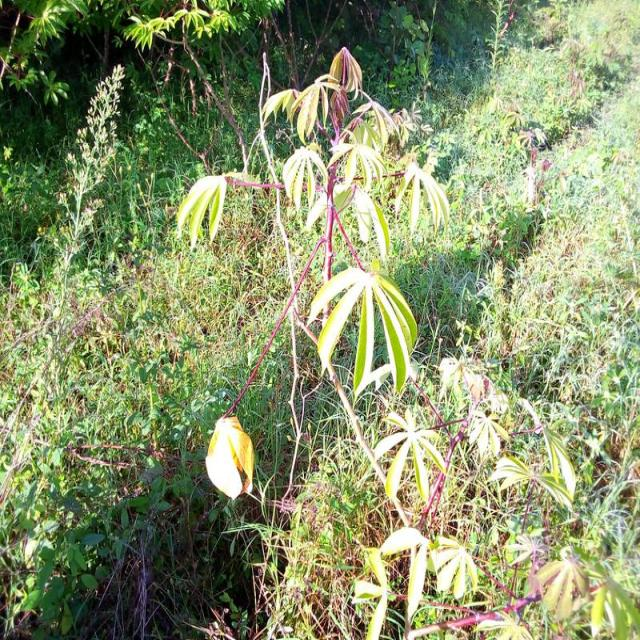cassava leaf: (309, 259, 419, 401), (206, 414, 255, 500), (177, 172, 228, 250)
